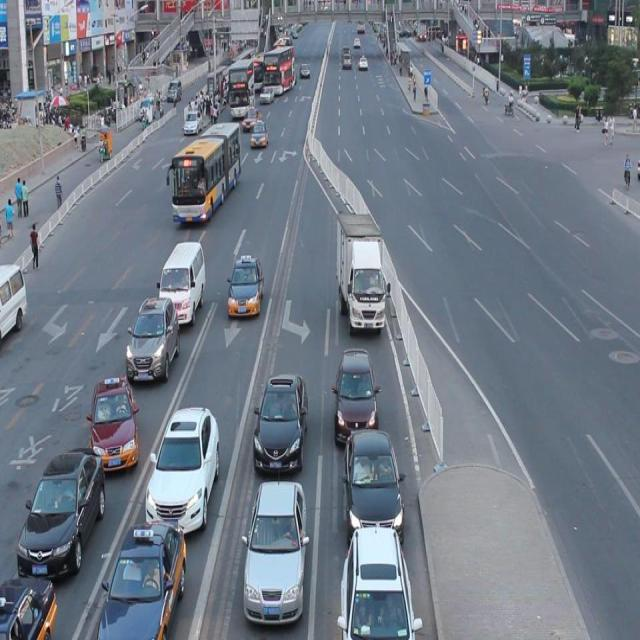bus: (336, 213, 384, 329)
car: (16, 444, 106, 578), (95, 514, 187, 640), (144, 401, 220, 534), (242, 474, 308, 621), (338, 519, 416, 640), (343, 422, 404, 538), (251, 367, 308, 472), (124, 293, 181, 380), (89, 373, 140, 470), (334, 344, 379, 448), (1, 571, 58, 640), (226, 254, 262, 316)
truck: (158, 238, 206, 325), (1, 262, 28, 344)
van: (172, 122, 240, 222)
